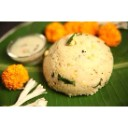venpongal: (50, 38, 112, 91)
